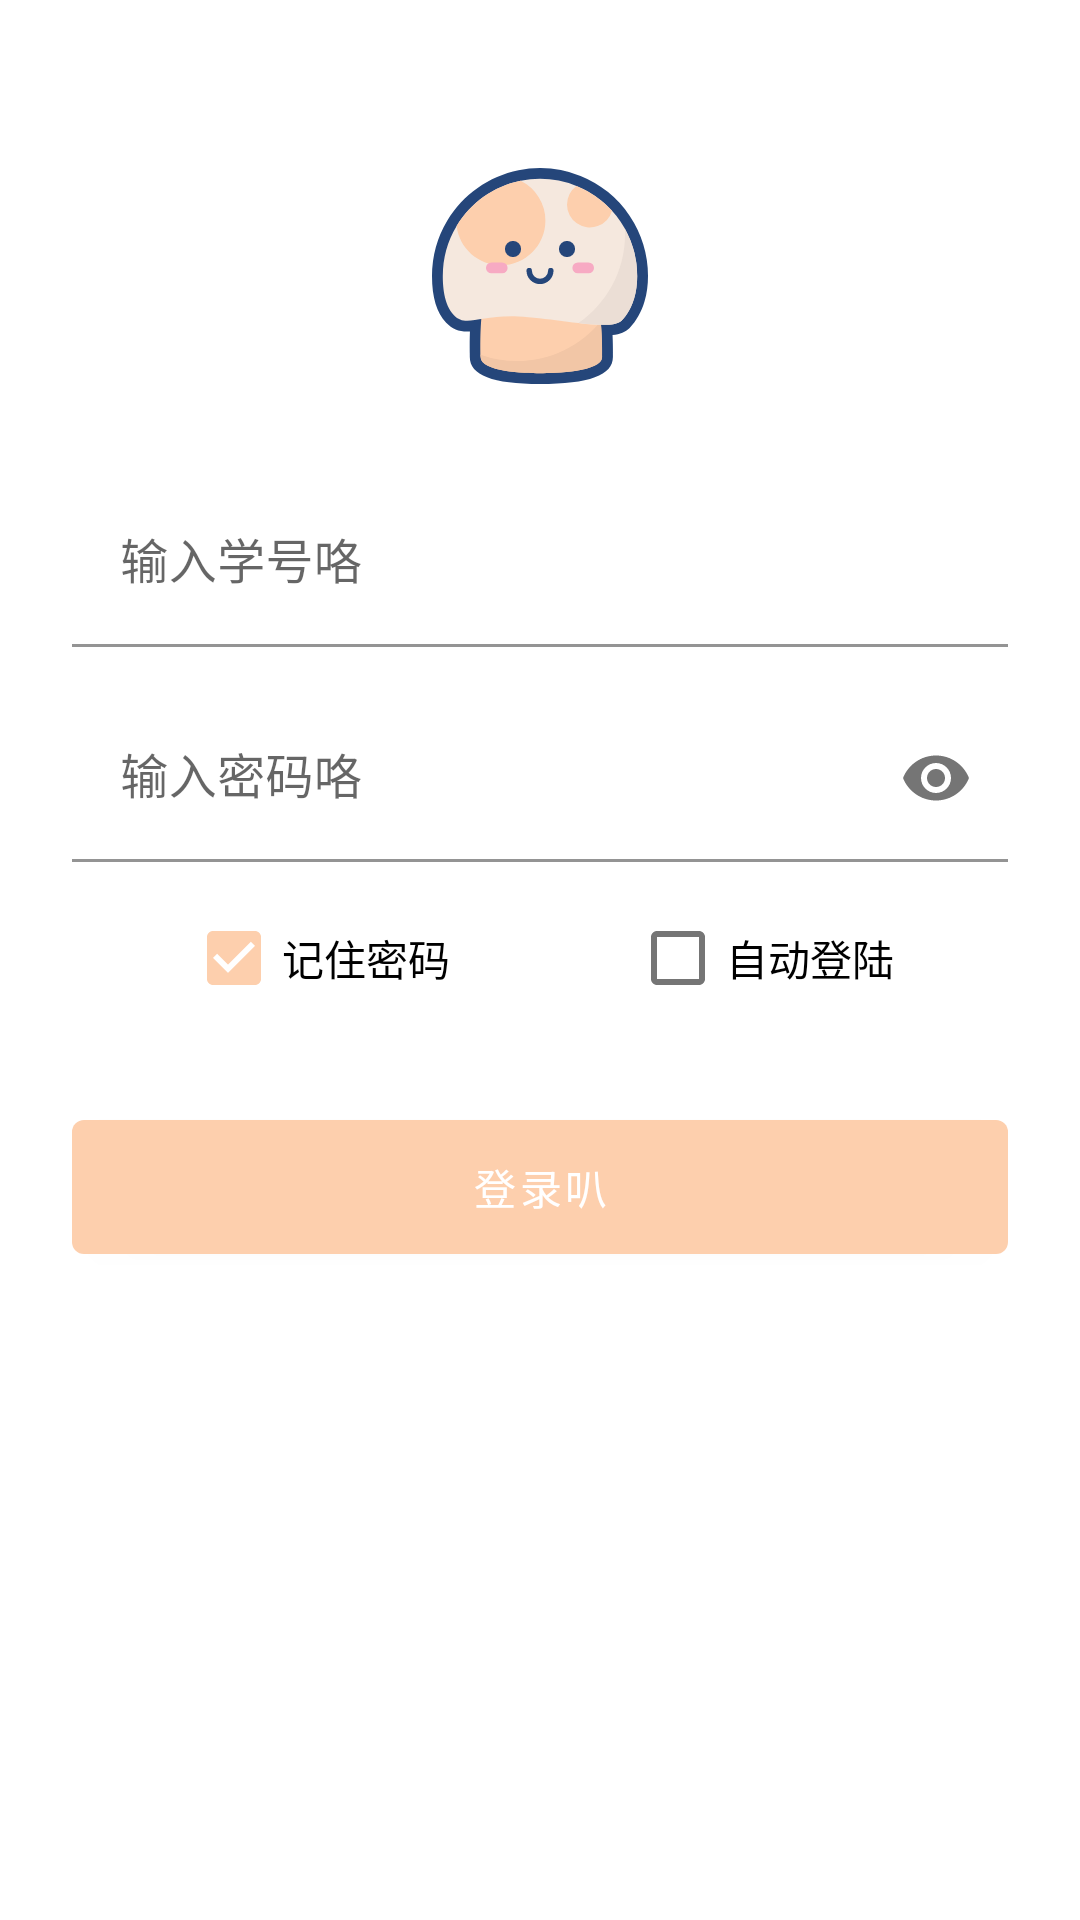

Where icons sit on this 1080px x 1920px app screen, as (x1, y1, x2, y2):
mushroom: (432, 168, 648, 384)
